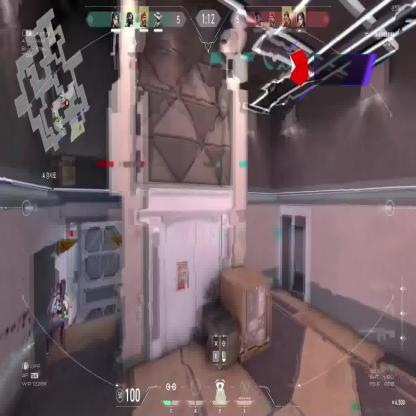enemy: (44, 280, 70, 355)
enemy_head: (54, 284, 61, 296)
